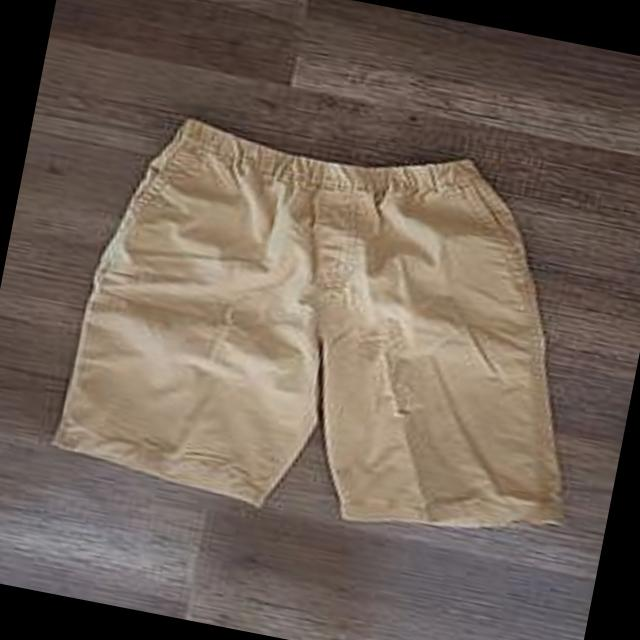SHORT: (27, 73, 638, 573)
